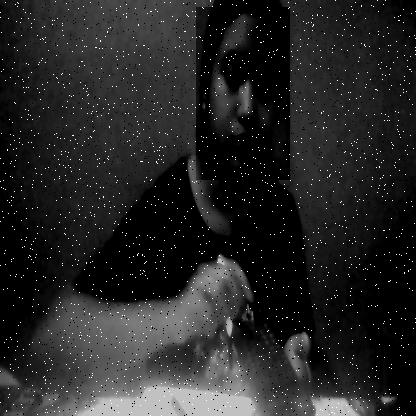Normal: (196, 7, 290, 180)
